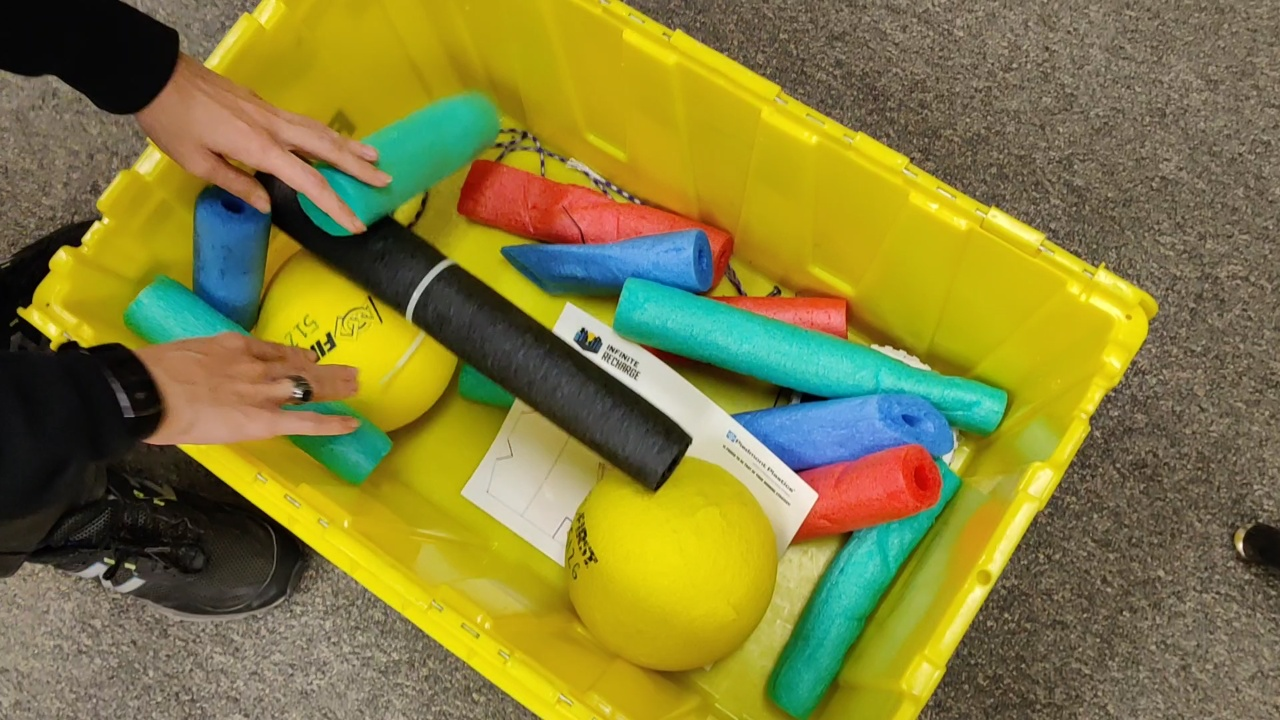Ball: (563, 454, 777, 670), (257, 245, 458, 429)
